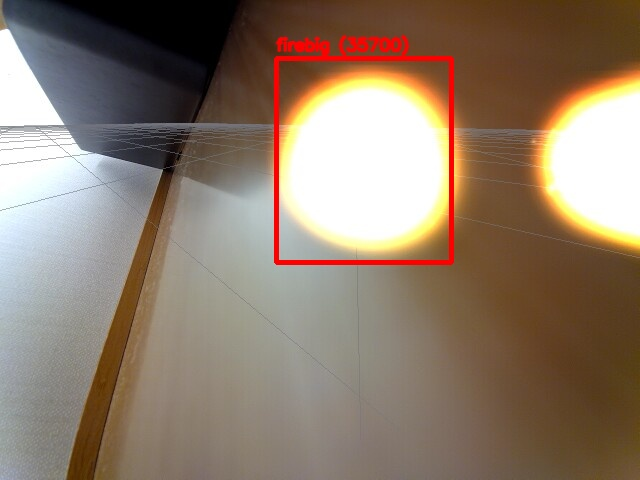firebig: (276, 58, 451, 262)
